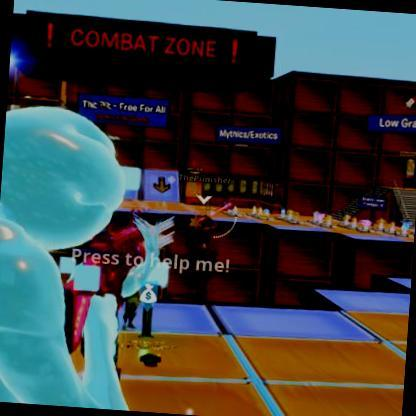person: (183, 216, 224, 281)
